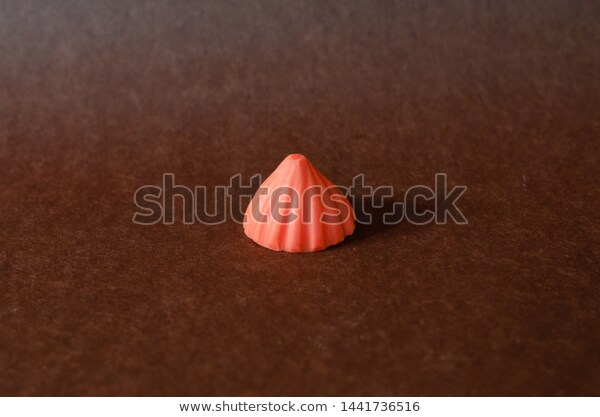modak: (235, 136, 357, 258)
